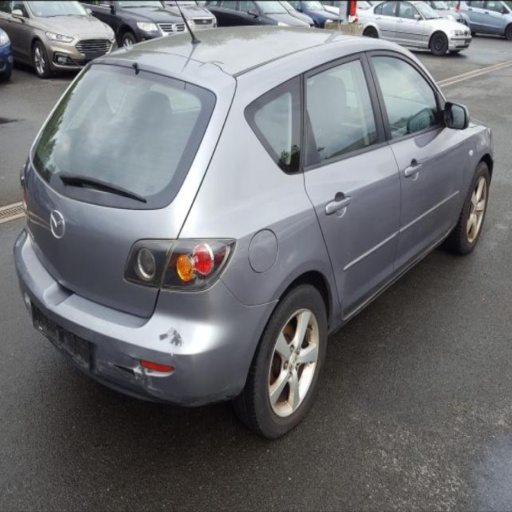rust: (134, 364, 155, 392), (222, 387, 243, 399)
scratch: (96, 357, 173, 400), (158, 325, 184, 346)
